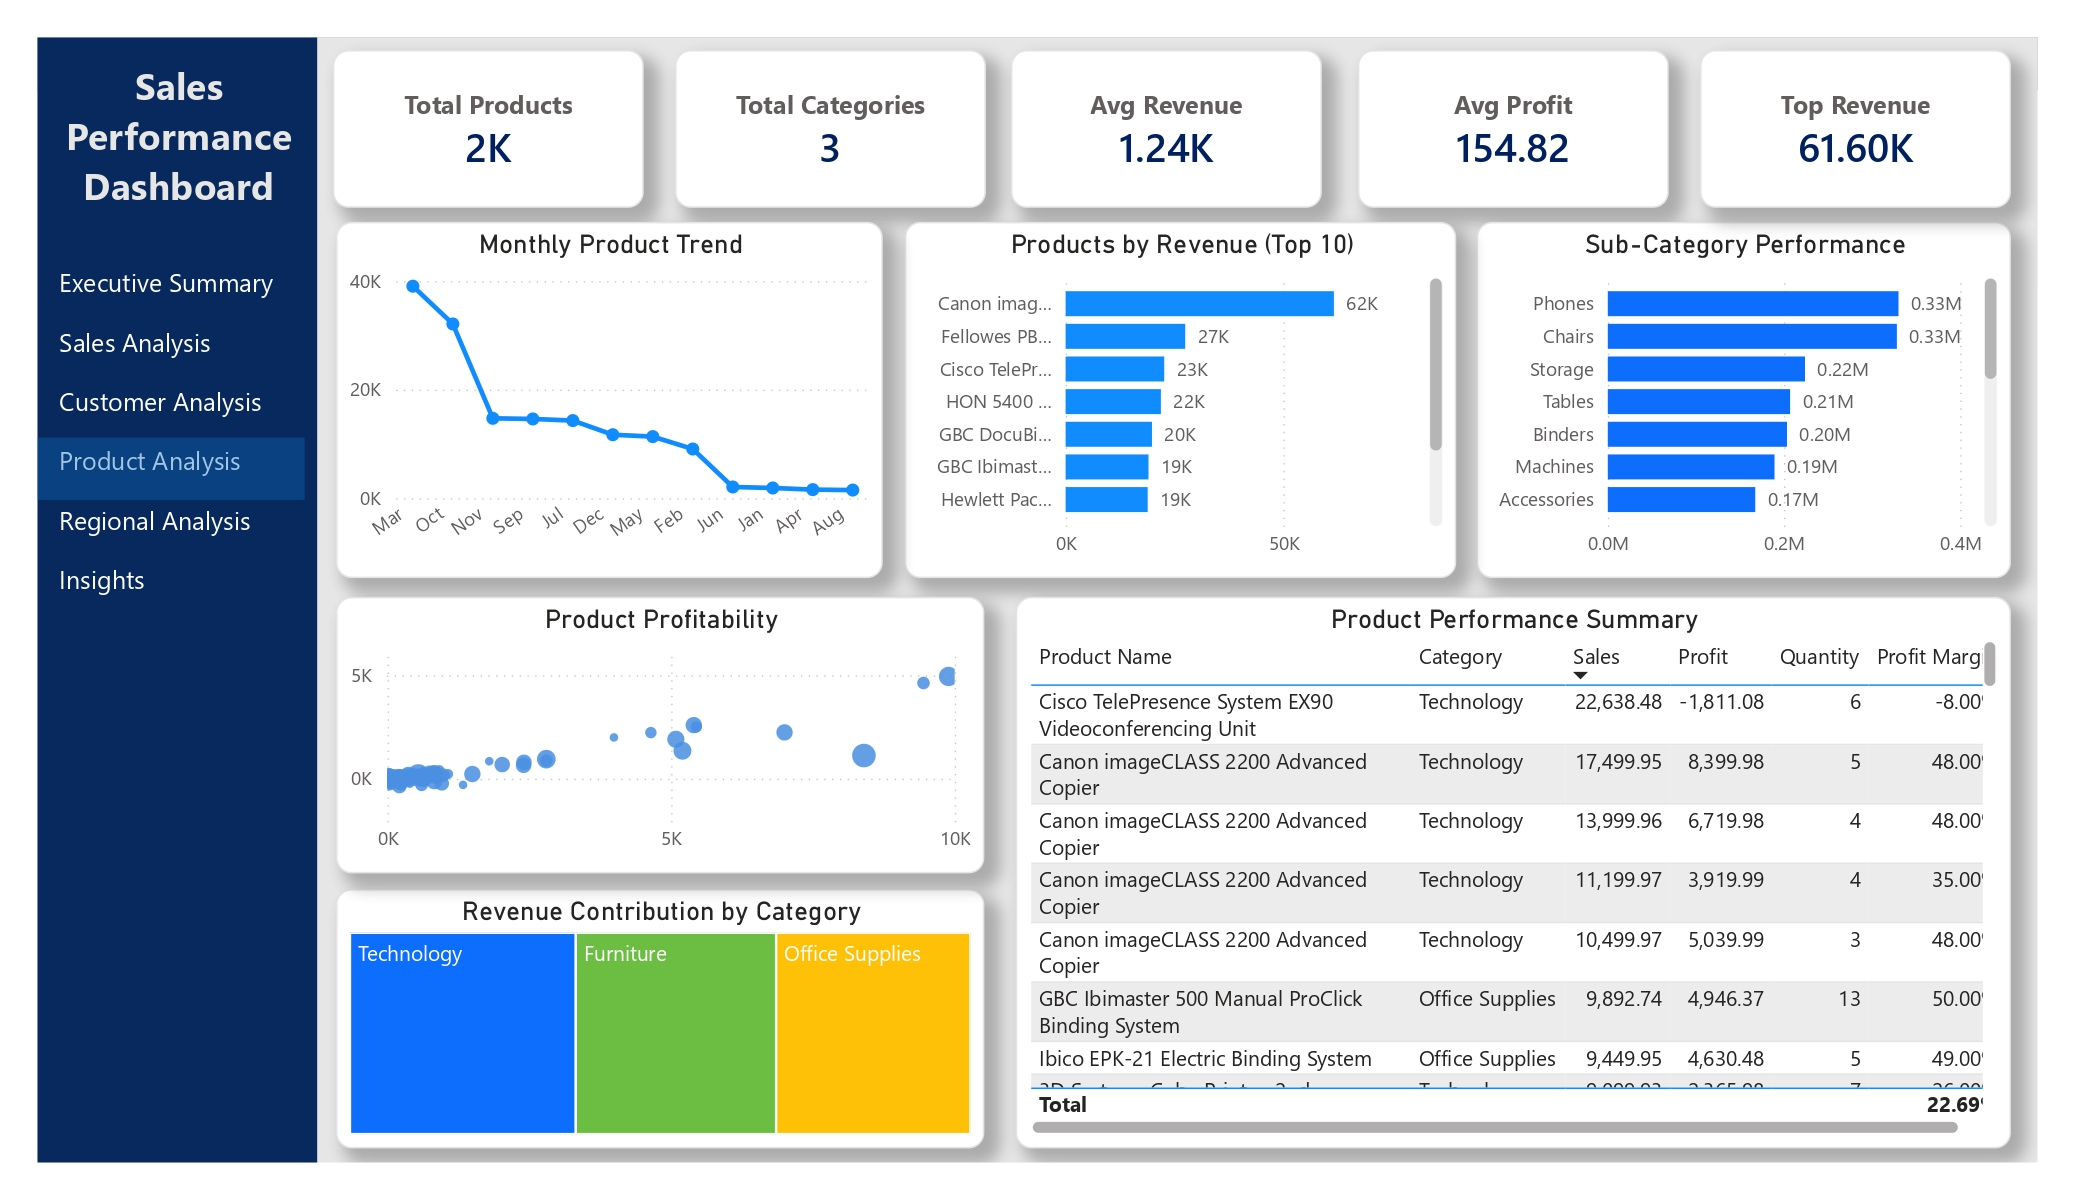

What the dashboard file says about the page in this screenshot:
{"tool":"powerbi","page":{"name":"Page 4","canvas":[1280,720],"ordinal":3},"visuals":[{"type":"cardVisual","title":"Total Sales","fields":{"Data":["Store Data.Total Products"]},"box":[189.4,8.4,199.1,100.1],"z":0},{"type":"cardVisual","fields":{"Data":["Store Data.Total Categories"]},"box":[407.8,8.4,199.1,100.1],"z":1000},{"type":"cardVisual","fields":{"Data":["Store Data.Avg Product Revenue"]},"box":[622.5,8.4,199.1,100.1],"z":2000},{"type":"cardVisual","fields":{"Data":["Store Data.Avg Product Profit"]},"box":[844.5,8.4,199.1,100.1],"z":3000},{"type":"clusteredBarChart","title":"Sub-Category Performance","fields":{"Category":["Store Data.Sub-Category"],"Y":["Sum(Store Data.Sales)"]},"box":[921.2,117.5,341.2,228.8],"z":4000},{"type":"treemap","title":"Revenue Contribution by Category","fields":{"Values":["Store Data.Total Sales"],"Group":["Store Data.Category"]},"box":[191.2,545,415,166.2],"z":5000},{"type":"clusteredBarChart","title":"Products by Revenue (Top 10)","fields":{"Y":["Store Data.Total Sales"],"Category":["Store Data.Product Name"]},"box":[555,117.5,352.5,228.8],"z":6000},{"type":"shape","box":[0,0,178.8,720],"z":7000},{"type":"textbox","box":[8.8,141.2,162.5,237.5],"z":8000},{"type":"cardVisual","fields":{"Data":["Store Data.Top Product Revenue"]},"box":[1064.1,8.4,199.1,100.1],"z":9000},{"type":"lineChart","title":"Monthly Product Trend","fields":{"Y":["Sum(Store Data.Sales)"],"Category":["DateTable.Month"]},"box":[191.2,117.5,350,228.8],"z":10000},{"type":"scatterChart","title":"Product Profitability","fields":{"X":["Min(Store Data.Sales)"],"Y":["Min(Store Data.Profit)"],"Category":["Store Data.Product Name"],"Size":["Sum(Store Data.Quantity)"]},"box":[191.2,357.5,415,177.5],"z":11000},{"type":"tableEx","title":"Product Performance Summary","fields":{"Values":["Store Data.Product Name","Store Data.Category","Store Data.Sales","Store Data.Profit","Store Data.Quantity","Store Data.Profit Margin"]},"box":[626.2,357.5,636.2,353.8],"z":12000},{"type":"shape","box":[0,255.8,171.3,39.8],"z":13000},{"type":"textbox","box":[7.1,8.6,167.1,110],"z":14000},{"type":"shape","box":[0,335.4,171.3,39.8],"z":15005},{"type":"shape","box":[0,217.2,171.3,39.8],"z":15006},{"type":"shape","box":[0,177.3,171.3,39.8],"z":15007},{"type":"shape","box":[0,137.5,171.3,39.8],"z":15008},{"type":"shape","box":[0,295.6,171.3,39.8],"z":15009}]}

Visuals, with their boxes on the page's 1280x720 design canvas (x1, y1, x2, y2). These are canvas units, not pixel positions in the 2075x1200 screenshot, which may show the page scaled, cropped or inside an application window:
"Total Sales" cardVisual: 189 8 388 108
cardVisual - Store Data.Total Categories: 408 8 607 108
cardVisual - Store Data.Avg Product Revenue: 622 8 822 108
cardVisual - Store Data.Avg Product Profit: 844 8 1044 108
"Sub-Category Performance" clusteredBarChart: 921 118 1262 346
"Revenue Contribution by Category" treemap: 191 545 606 711
"Products by Revenue (Top 10)" clusteredBarChart: 555 118 908 346
shape: 0 0 179 720
textbox: 9 141 171 379
cardVisual - Store Data.Top Product Revenue: 1064 8 1263 108
"Monthly Product Trend" lineChart: 191 118 541 346
"Product Profitability" scatterChart: 191 358 606 535
"Product Performance Summary" tableEx: 626 358 1262 711
shape: 0 256 171 296
textbox: 7 9 174 119
shape: 0 335 171 375
shape: 0 217 171 257
shape: 0 177 171 217
shape: 0 138 171 177
shape: 0 296 171 335
